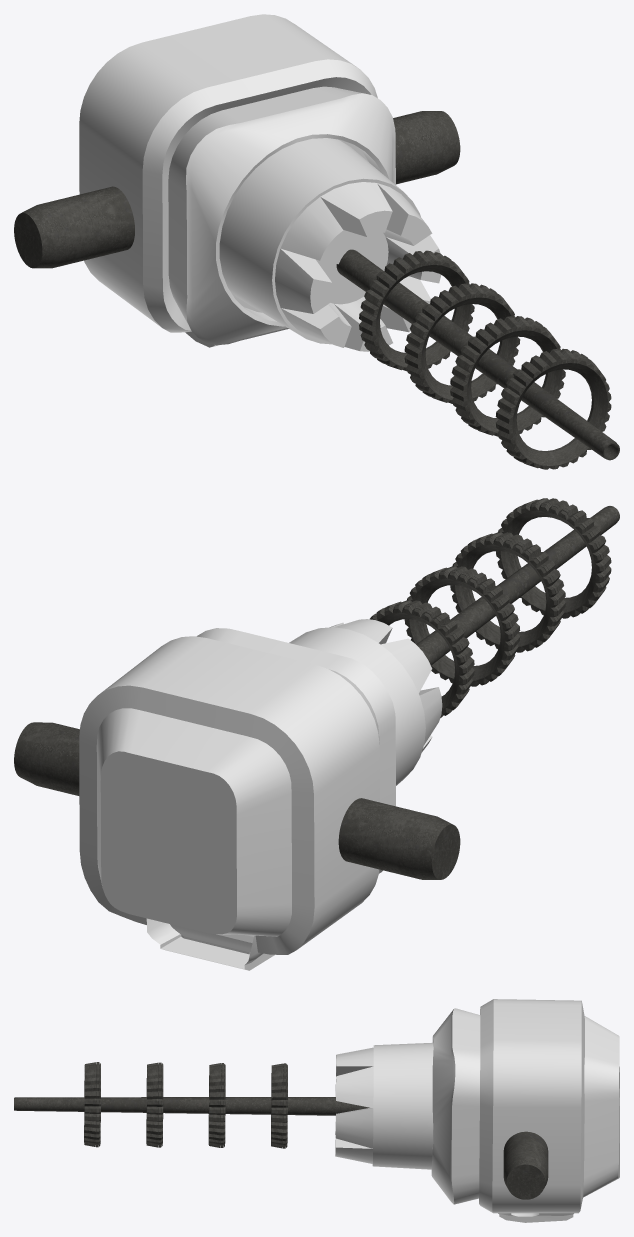
File: TurretHead.fbx
3 renders of one model, top to bottom at view 1: azimuth 30°, elevation 25°; view 2: azimuth 150°, elevation 25°; view 3: azimuth 270°, elevation 25°, orthographic. The views are drawn at different scales.
Visible parts, largest first — view 1: crossbar; view 2: crossbar; view 3: crossbar.
Boxes of the visible parts, x1,y1,x2,y2 form: crossbar: (14, 14, 619, 469); crossbar: (14, 498, 619, 970); crossbar: (14, 999, 619, 1222).
Bounding box in the file's own units: 1.73 × 3.19 × 1.08.
3 materials, 1 textured.
